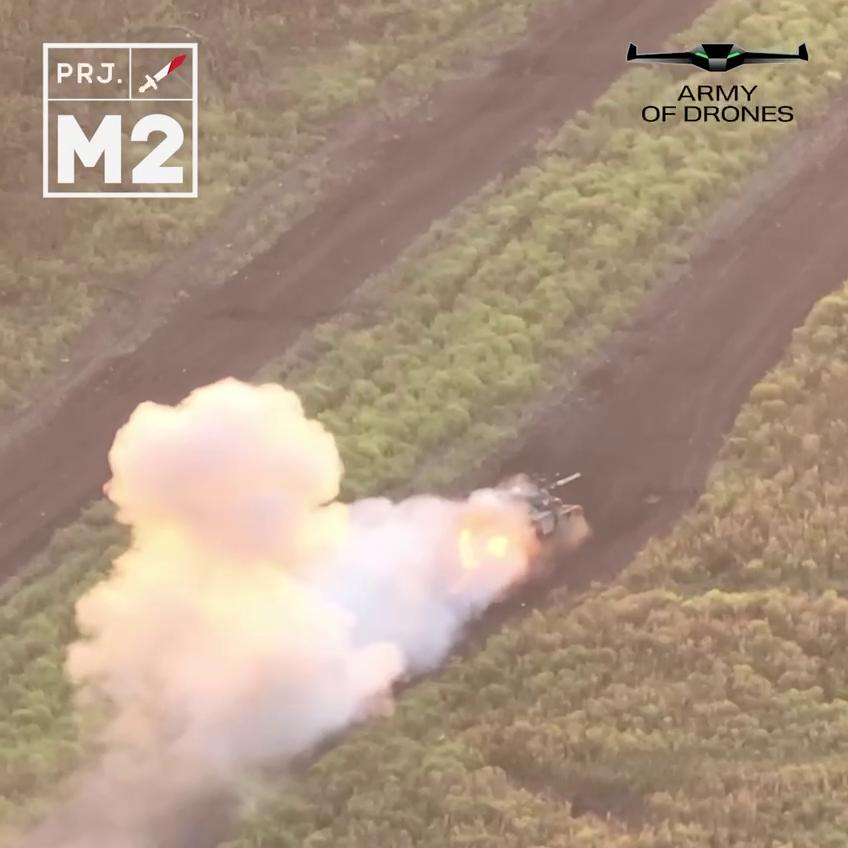tank: (473, 469, 596, 583)
